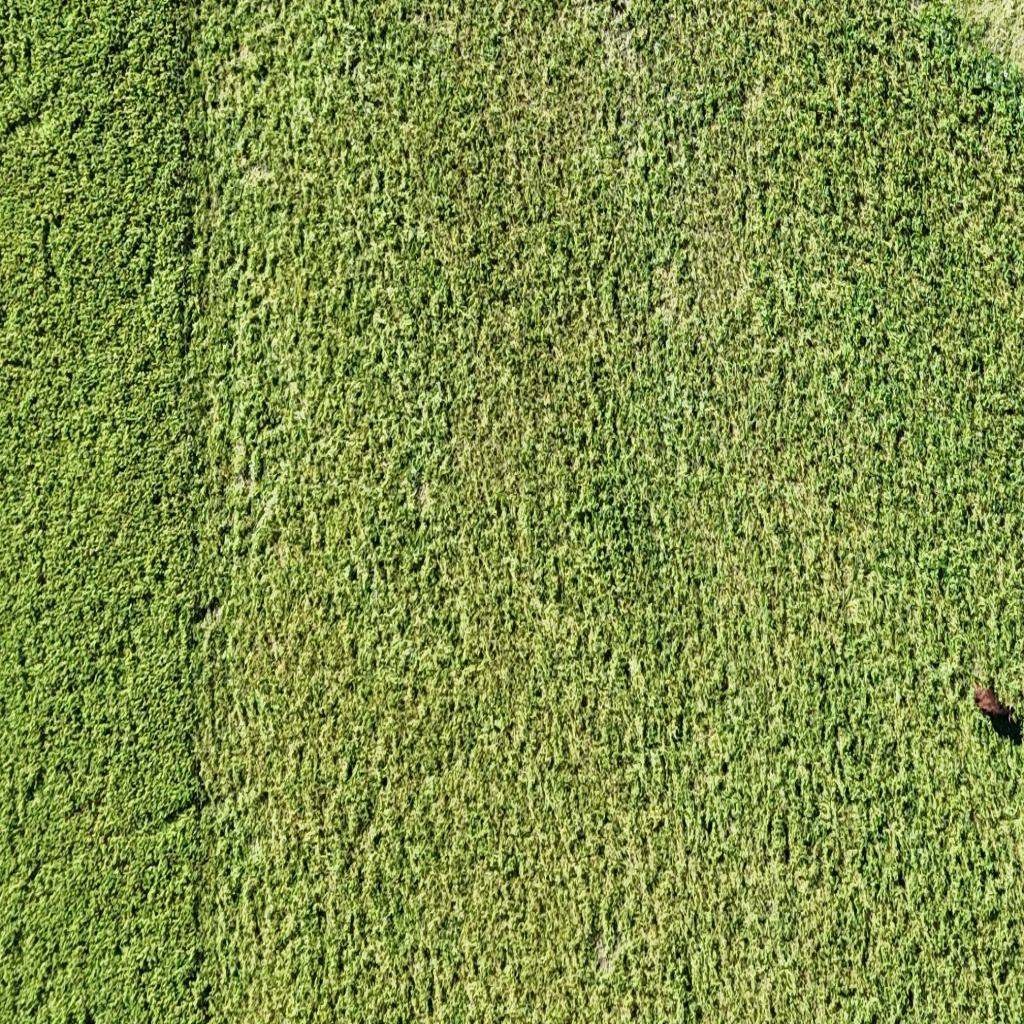cow: (971, 674, 1011, 733)
